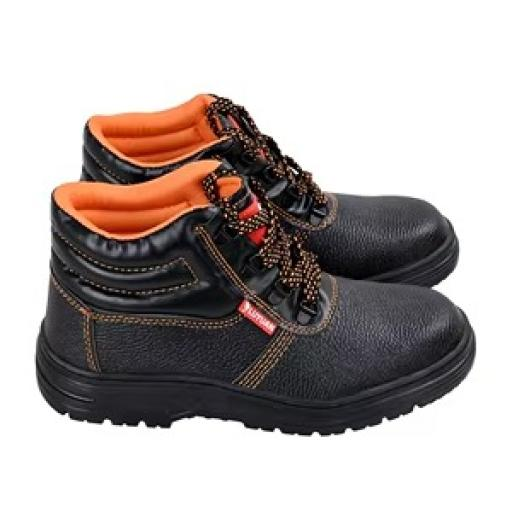safety_boots: (5, 172, 504, 450)
